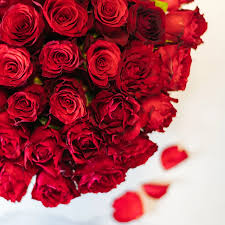lale: (34, 32, 84, 84), (1, 0, 45, 47), (38, 0, 94, 36), (84, 38, 124, 88), (0, 43, 38, 95), (1, 85, 51, 123), (96, 0, 135, 33)
